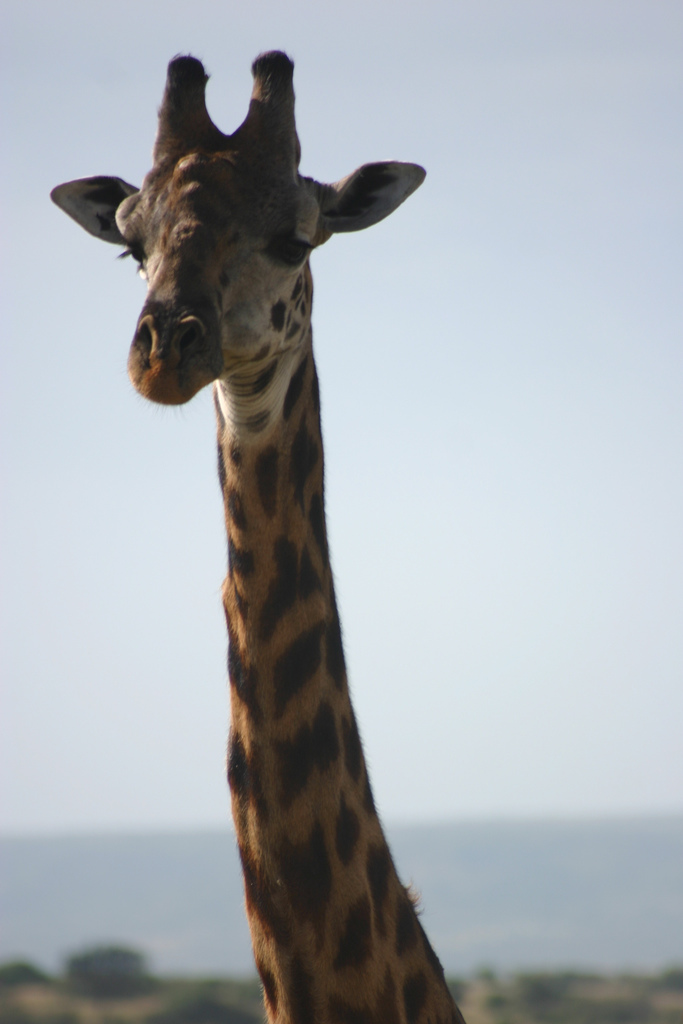giraffe: (65, 51, 488, 1000)
